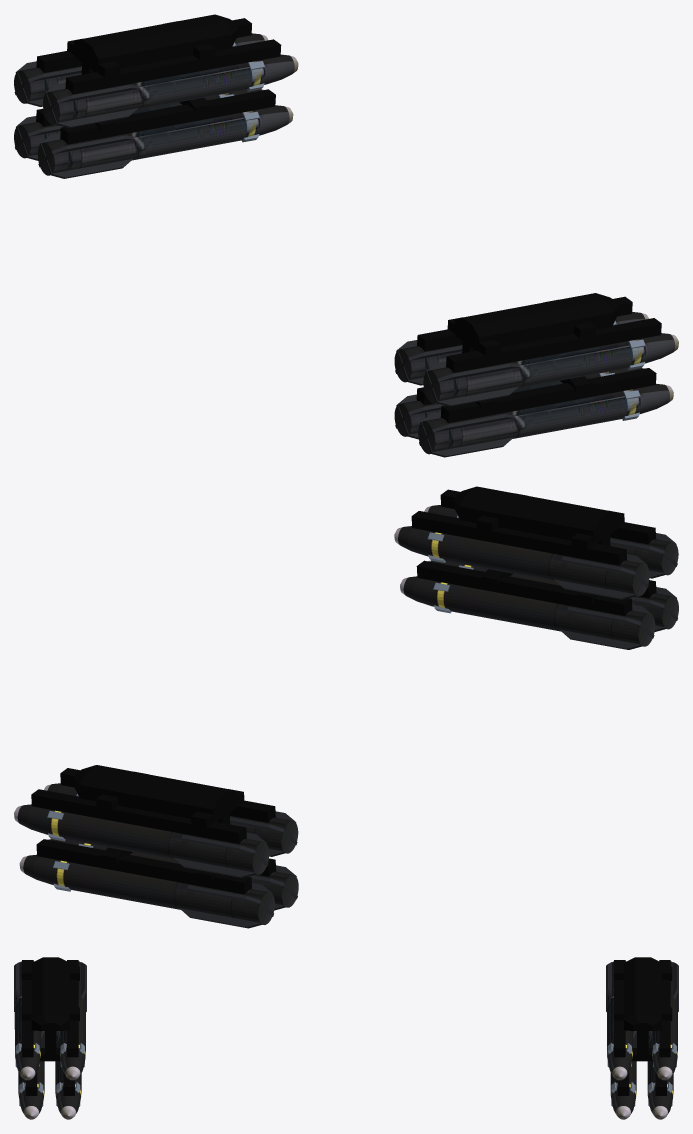
The model's file is uh60lagm11414.glb.
3 views of the same model, one above another, from view 1: azimuth 30°, elevation 25°; view 2: azimuth 150°, elevation 25°; view 3: azimuth 270°, elevation 25° (orthographic). The views are drawn at different scales.
Parts seen in each view (by area): view 1: 立方体.004, 立方体.001, 円柱.011, 円柱.005, 円柱.009, 円柱.006, 円柱.001, 円柱.007, 円柱.008, 円柱.004; view 2: 立方体.001, 立方体.004, 円柱.004, 円柱.008, 円柱.001, 円柱.007, 円柱.009, 円柱.006, 円柱.011, 円柱.005; view 3: 立方体.001, 立方体.004, 円柱.007, 円柱.009, 円柱.001, 円柱.006, 円柱.004, 円柱.008, 円柱.005, 円柱.011.
Part boxes in pixels (box(x1,y1,x2,y2)): 立方体.004: box(416, 293, 661, 423); 立方体.001: box(36, 14, 281, 144); 円柱.011: box(37, 105, 293, 178); 円柱.005: box(418, 383, 673, 457); 円柱.009: box(423, 333, 678, 406); 円柱.006: box(43, 54, 298, 128); 円柱.001: box(394, 312, 648, 385); 円柱.007: box(14, 33, 268, 106); 円柱.008: box(14, 89, 263, 160); 円柱.004: box(394, 367, 644, 439); 立方体.001: box(31, 765, 276, 894); 立方体.004: box(411, 486, 656, 615); 円柱.004: box(400, 576, 655, 649); 円柱.008: box(19, 854, 274, 928); 円柱.001: box(394, 526, 649, 599); 円柱.007: box(14, 804, 269, 878); 円柱.009: box(424, 505, 678, 578); 円柱.006: box(44, 783, 298, 856); 円柱.011: box(48, 838, 298, 910); 円柱.005: box(428, 560, 678, 631); 立方体.001: box(614, 957, 672, 1095); 立方体.004: box(21, 957, 79, 1095); 円柱.007: box(652, 961, 678, 1080); 円柱.009: box(14, 961, 40, 1080); 円柱.001: box(60, 961, 86, 1080); 円柱.006: box(606, 961, 632, 1080); 円柱.004: box(55, 1031, 81, 1119); 円柱.008: box(647, 1031, 673, 1119); 円柱.005: box(18, 1031, 44, 1119); 円柱.011: box(610, 1031, 636, 1119).
Size of the model in its own units: 1.95 by 0.9008 by 5.75.
4 materials, 1 textured.
